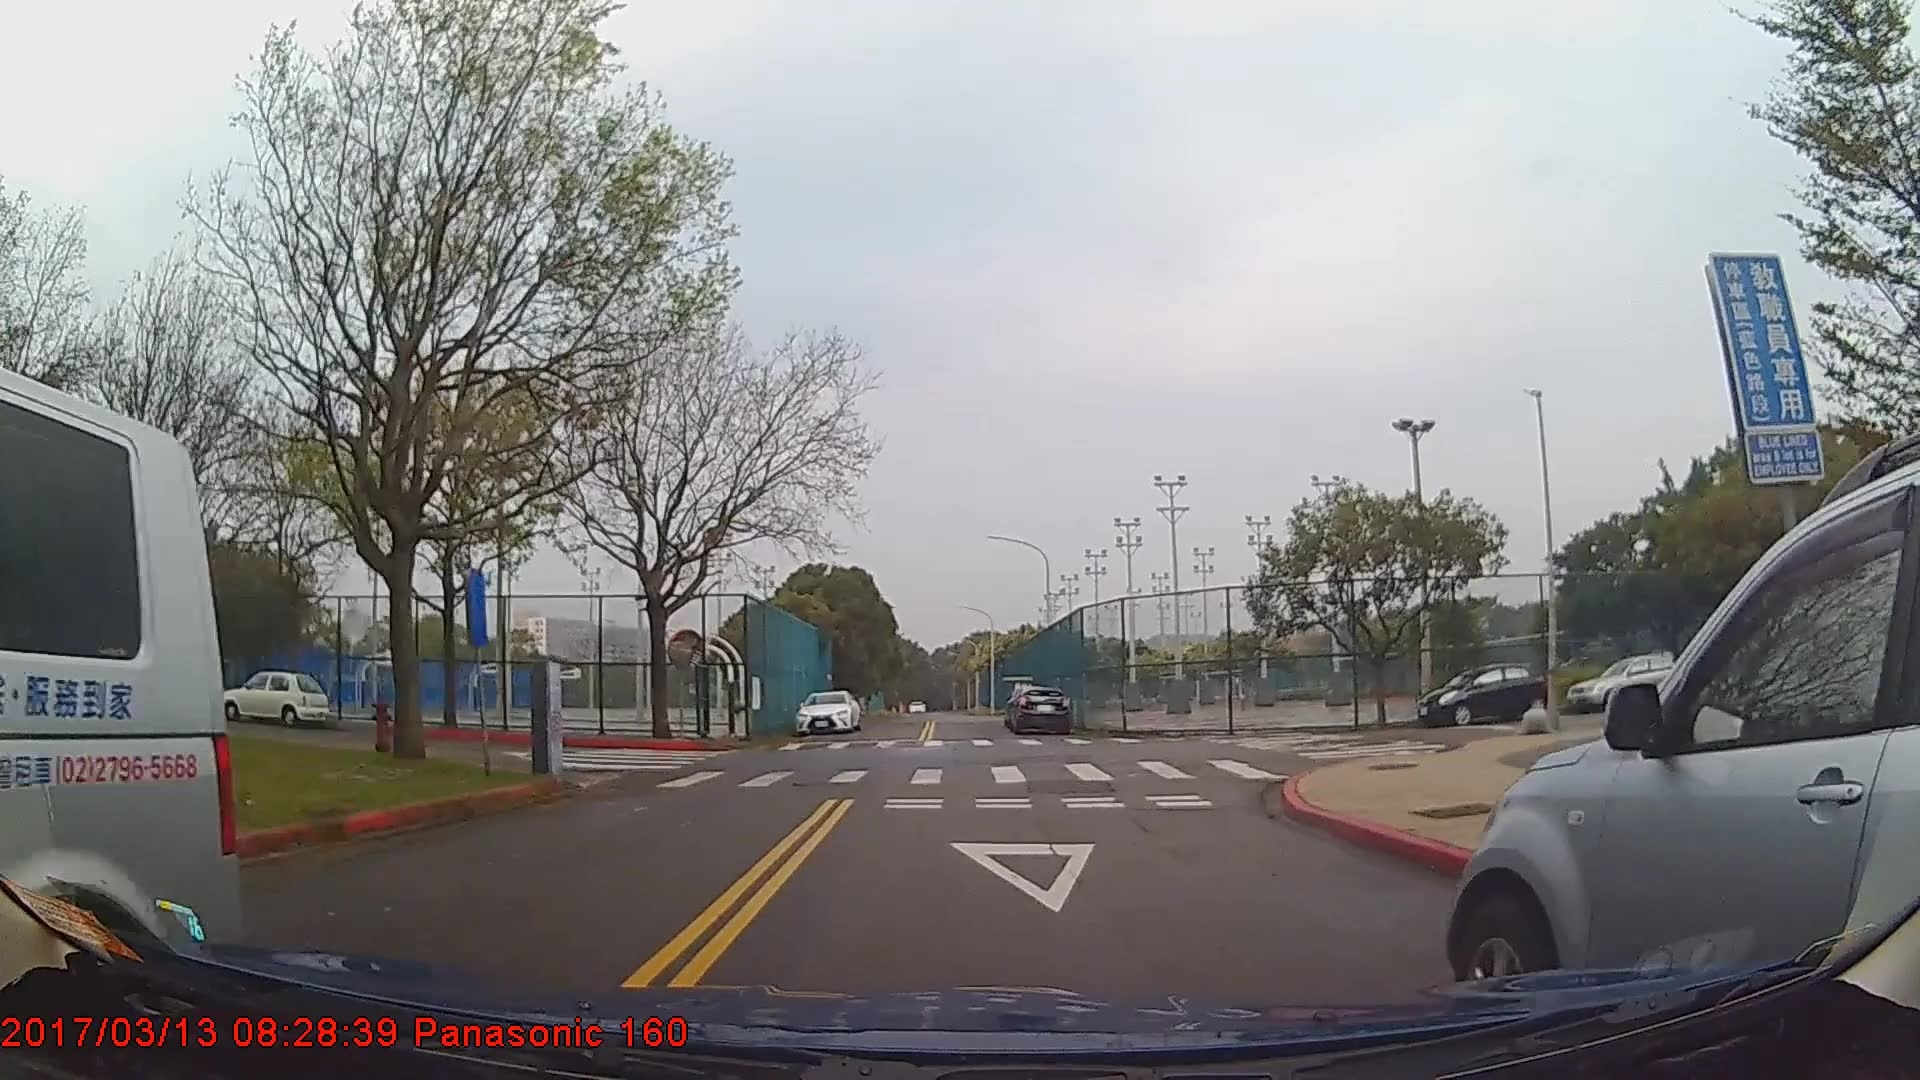vehicle: (1441, 452, 1920, 1047), (0, 359, 241, 1058), (1418, 665, 1548, 727), (1565, 650, 1684, 711), (220, 669, 328, 728), (1007, 683, 1072, 735), (796, 688, 858, 735)
